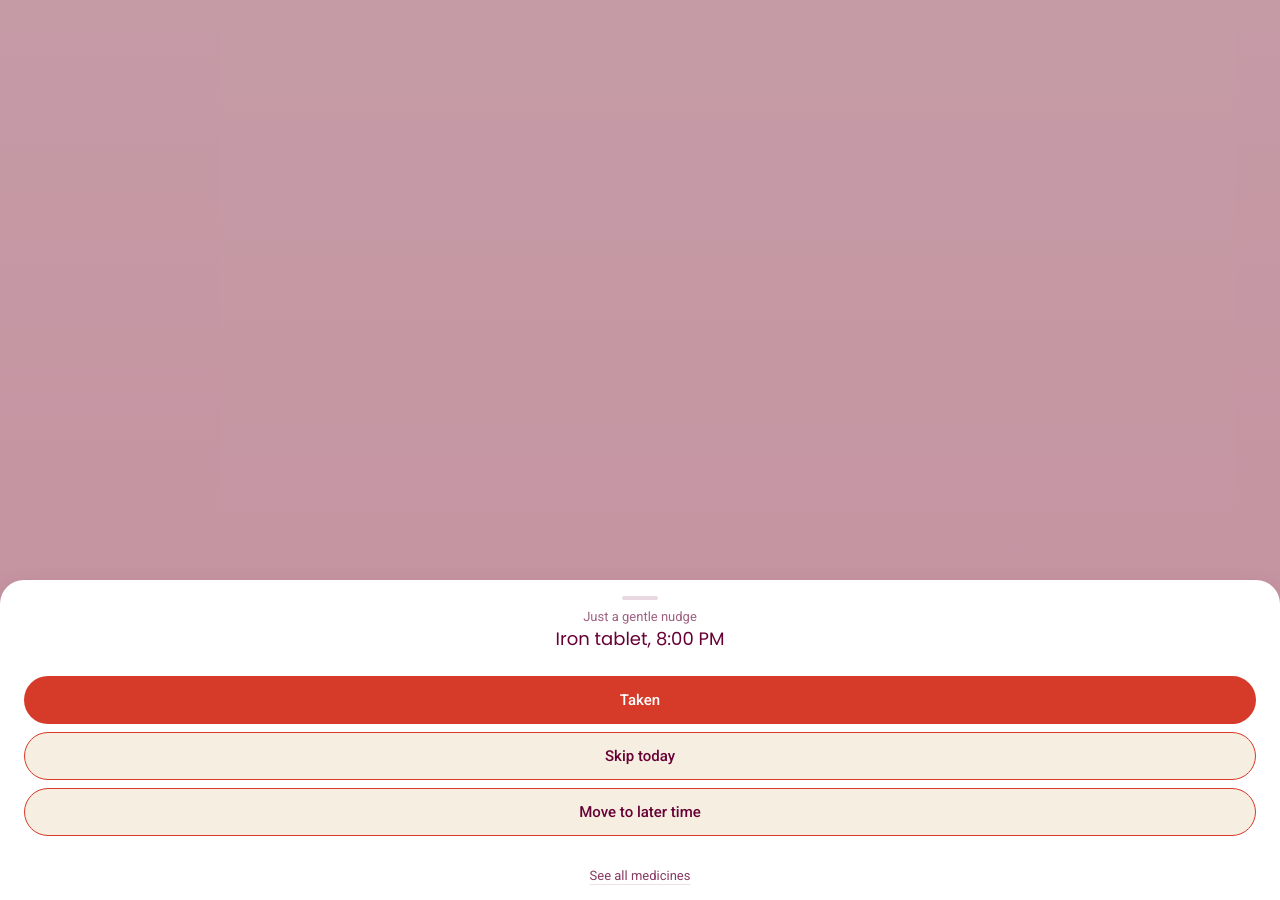
Test: MedicineQuickActionSheet › logs Taken and shows its confirmation with Change
The width and height of the screenshot is (1280, 900).
Click the button "Taken". click: point(640, 700)
box: x1=24 y1=676 x2=1256 y2=724
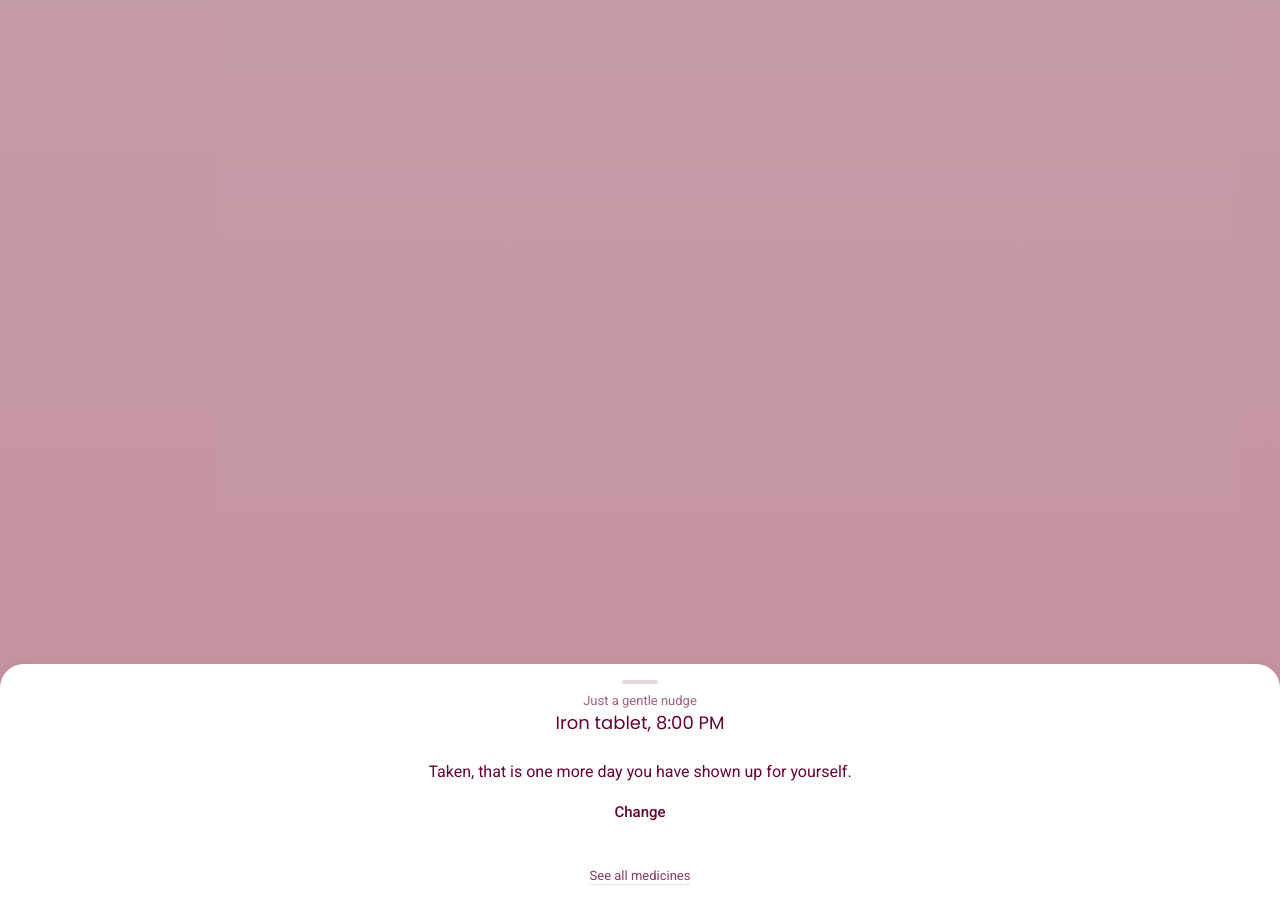
Check: the text "Taken, that is one more day you have shown up for yourself." is shown, box x1=428 y1=762 x2=852 y2=781
Check: the button "Change" is shown, box x1=590 y1=788 x2=690 y2=836
